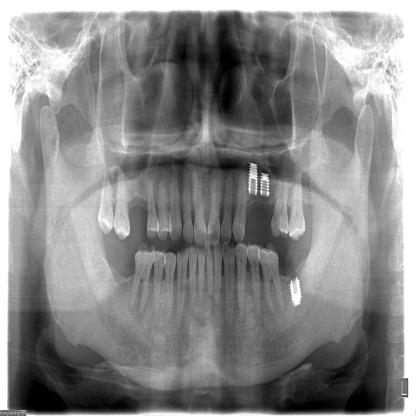Bicon: (288, 277, 302, 308), (248, 158, 259, 196), (260, 170, 271, 198)
